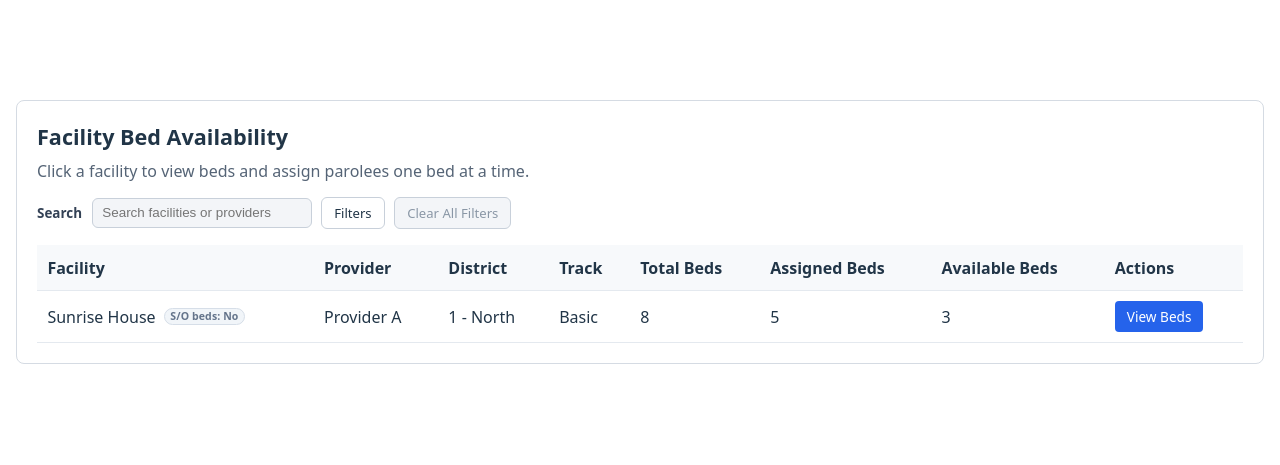
Scenario: MainDash › shows notes column to all users
The width and height of the screenshot is (1280, 465).
Expected: the text "Sunrise House" is shown, [47,305,156,329]
Click the button "View Beds".
click(1159, 317)  # box [1115,302,1204,332]
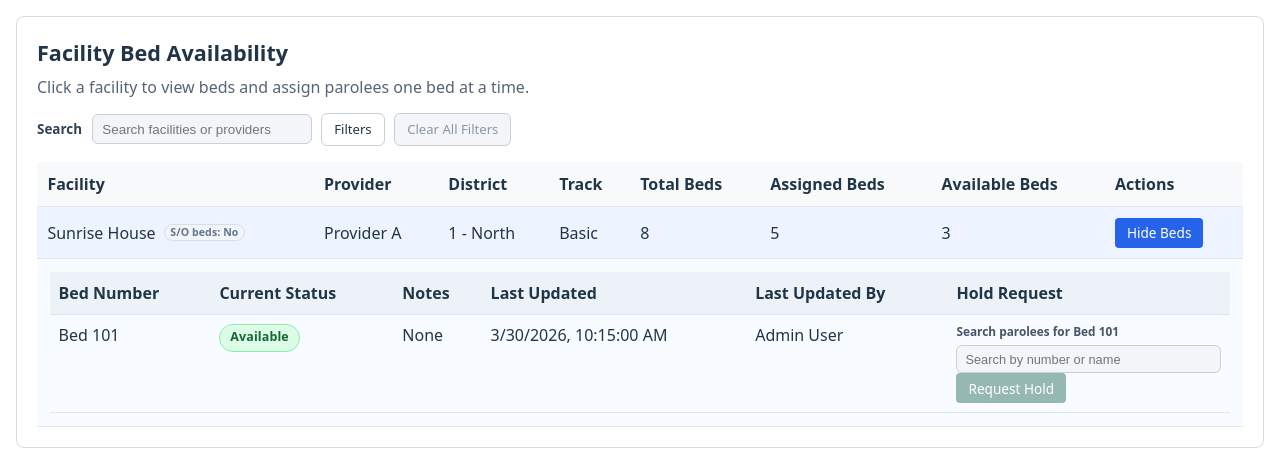
Result: the column heading "Notes" is shown at [394,272,482,314]
Result: the text "None" is shown at [402,323,443,347]
